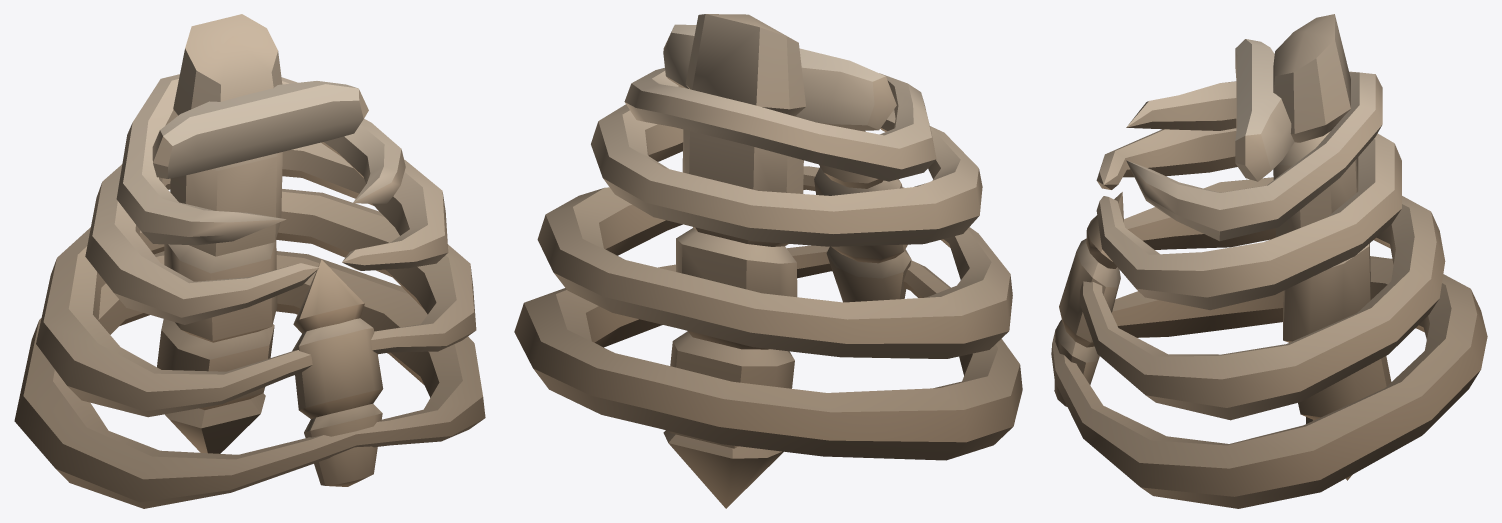
Rendered from ribcage.glb.
The picture shows the model from 3 angles, left to right: view 1: azimuth 30°, elevation 25°; view 2: azimuth 150°, elevation 25°; view 3: azimuth 270°, elevation 25°; orthographic projection. The views are drawn at different scales.
Parts seen in each view (by area): view 1: ribcage; view 2: ribcage; view 3: ribcage.
Boxes of the visible parts, box(x1,y1,x2,y2) form: ribcage: box(14, 14, 485, 508); ribcage: box(514, 14, 1022, 508); ribcage: box(1051, 14, 1487, 508).
Bounding box in the file's own units: 0.3449 × 0.35 × 0.3046.
